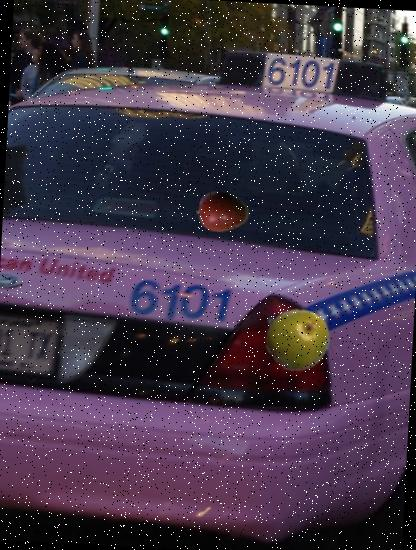Mango: (194, 183, 252, 241)
Maracuja: (262, 305, 331, 374)
